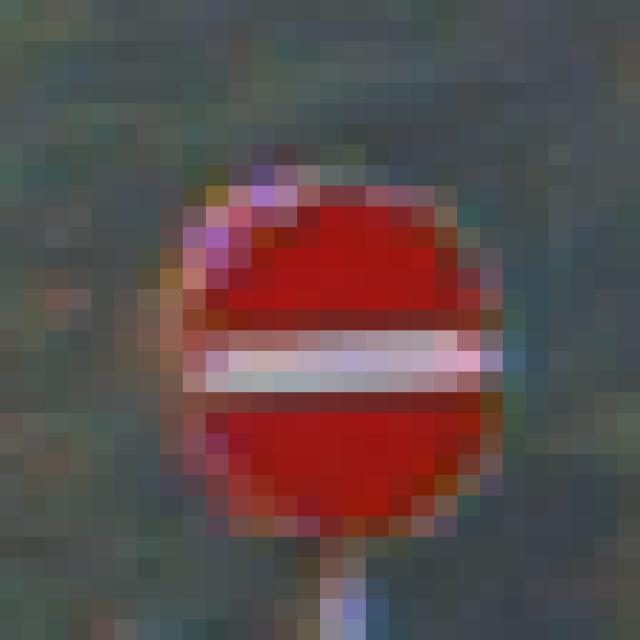No Entry: (115, 125, 504, 517)
